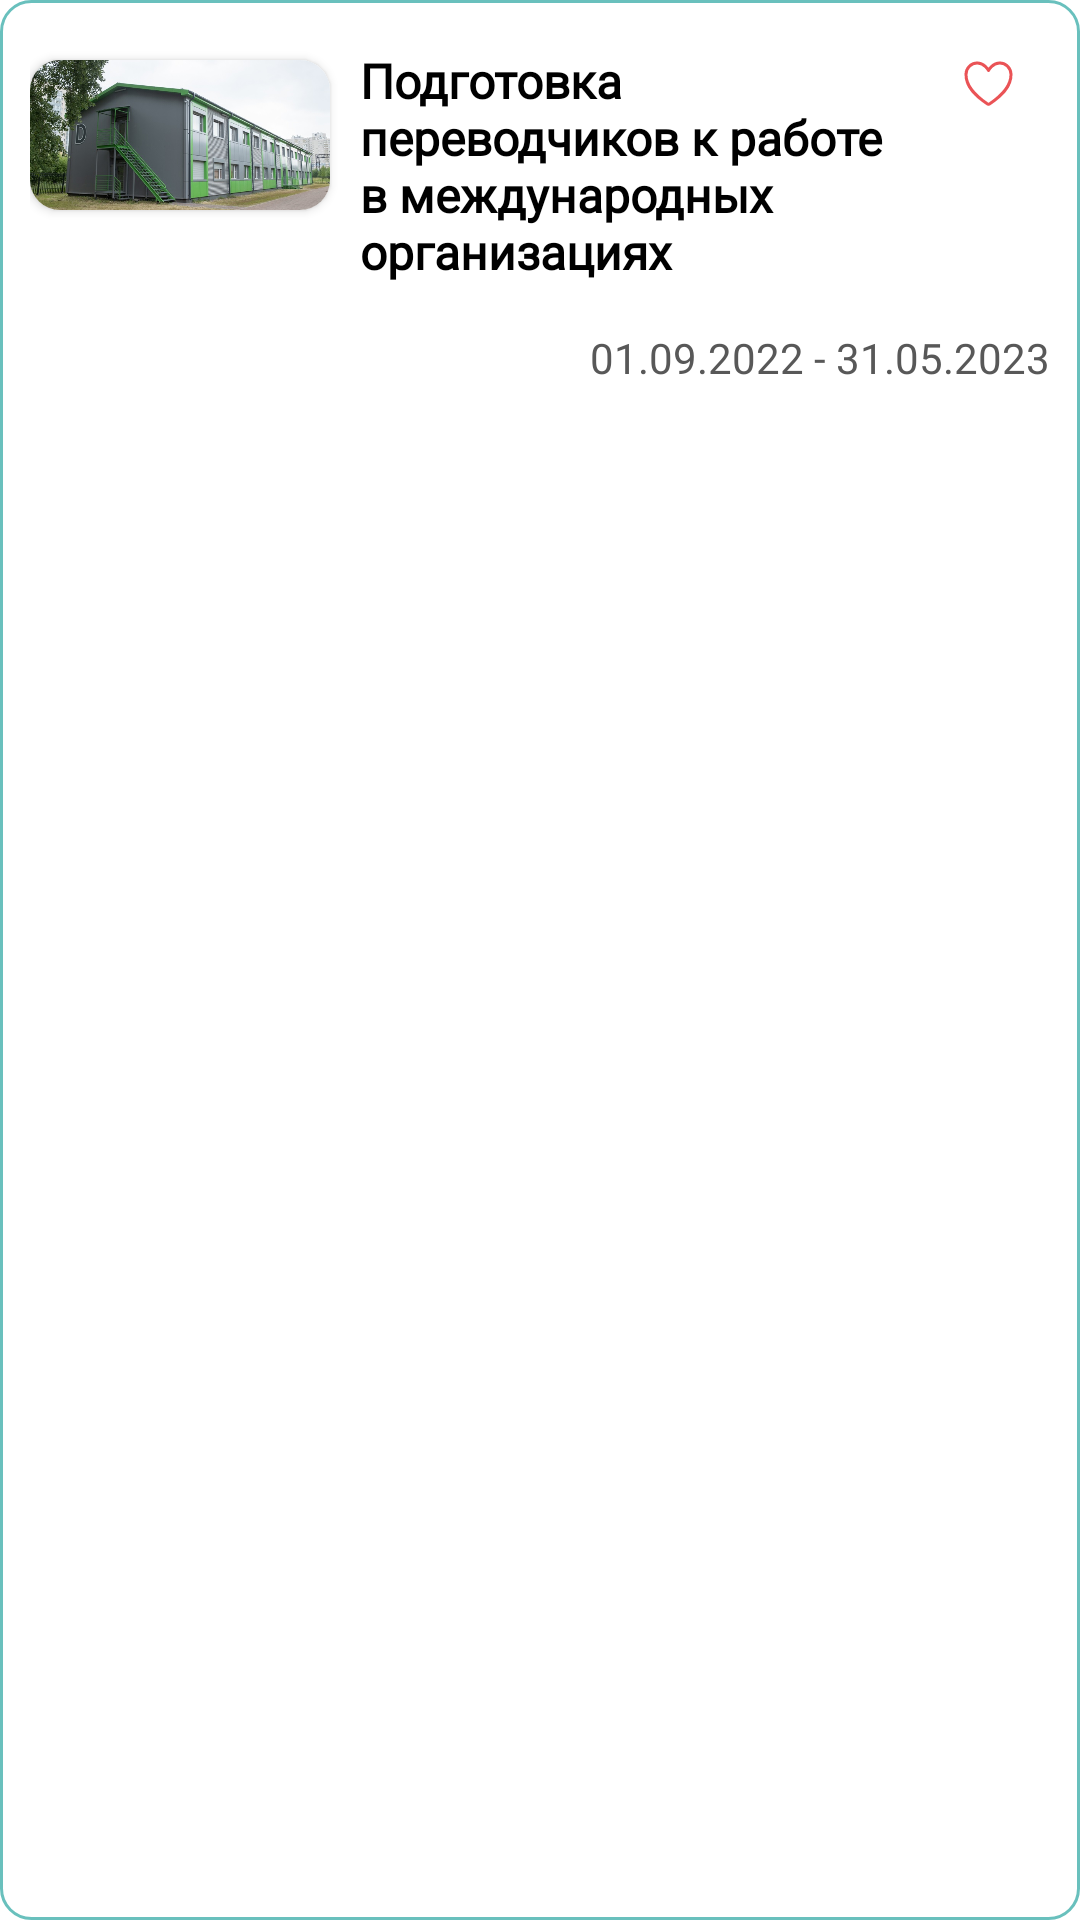

Locate icon controls on the screen. Image size 1080 x 1920, boxes as (x1, y1, x2, y2).
accomm: (30, 60, 330, 210)
heart: (964, 61, 1013, 106)
